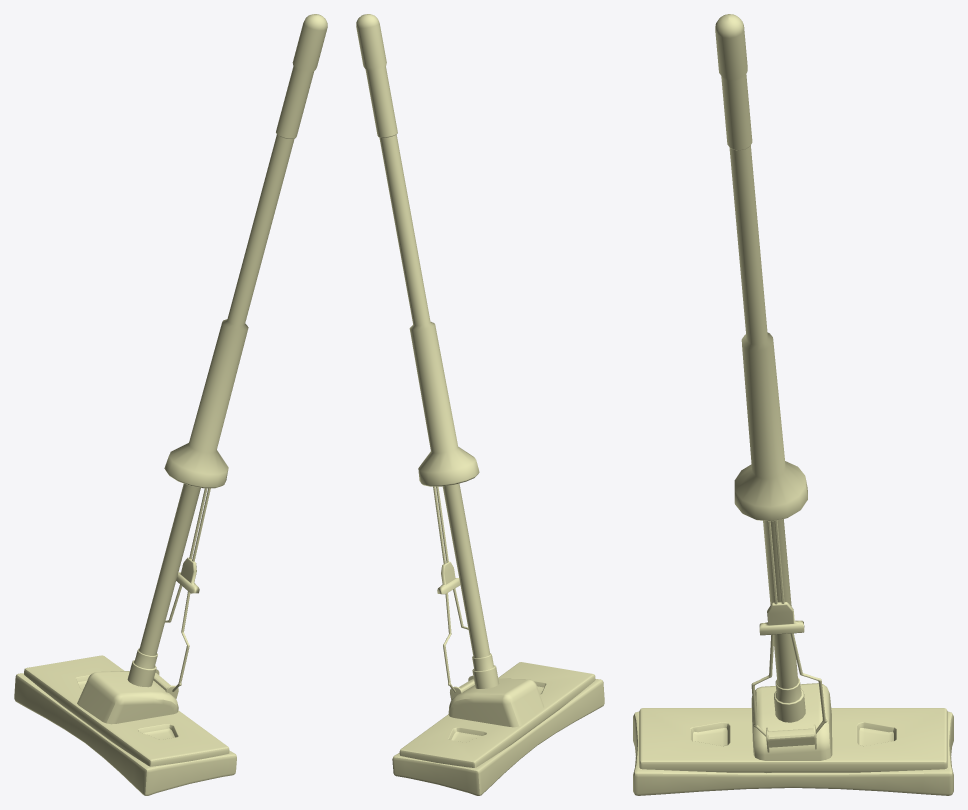
The model's file is Mop.fbx.
The picture shows the model from 3 angles, left to right: view 1: azimuth 30°, elevation 25°; view 2: azimuth 150°, elevation 25°; view 3: azimuth 270°, elevation 25°; orthographic projection. The views are drawn at different scales.
Parts seen in each view (by area): view 1: polySurface17; view 2: polySurface17; view 3: polySurface17.
Boxes of the visible parts, x1,y1,x2,y2 form: polySurface17: [14, 14, 327, 795]; polySurface17: [356, 14, 604, 795]; polySurface17: [633, 14, 953, 795].
Bounding box in the file's own units: 0.4041 × 1.23 × 0.4188.
